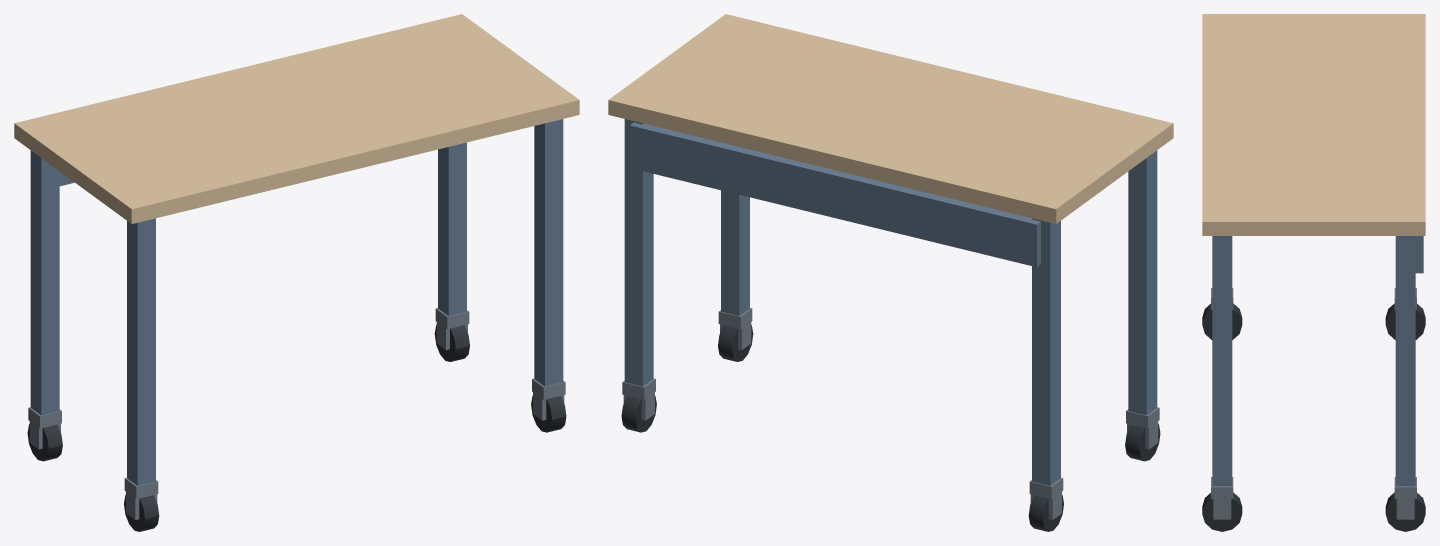
3 views of the same model, side by side, from view 1: azimuth 30°, elevation 25°; view 2: azimuth 150°, elevation 25°; view 3: azimuth 270°, elevation 25° (orthographic). The views are drawn at different scales.
Visible parts, largest first — view 1: vanity-top, vanity-leg-right-front, vanity-leg-left-front, vanity-leg-left-back, vanity-leg-right-back, vanity-caster-wheel-left-back, vanity-caster-wheel-right-front, vanity-caster-wheel-left-front, vanity-caster-wheel-right-back; view 2: vanity-top, vanity-back-brace, vanity-leg-left-front, vanity-leg-left-back, vanity-leg-right-back, vanity-leg-right-front, vanity-caster-wheel-left-front, vanity-caster-wheel-right-back, vanity-caster-wheel-left-back, vanity-caster-wheel-right-front; view 3: vanity-top, vanity-leg-right-back, vanity-leg-right-front, vanity-caster-wheel-right-back, vanity-caster-wheel-right-front, vanity-caster-wheel-left-back, vanity-caster-wheel-left-front, vanity-caster-fork-right-back-b, vanity-caster-fork-right-front-b, vanity-back-brace, vanity-caster-bridge-right-front, vanity-caster-bridge-right-back.
Boxes of the visible parts, <box> form: vanity-top: <box>14,14,579,223</box>; vanity-leg-right-front: <box>534,119,563,386</box>; vanity-leg-left-front: <box>127,218,155,485</box>; vanity-leg-left-back: <box>30,150,59,415</box>; vanity-leg-right-back: <box>438,142,466,315</box>; vanity-caster-wheel-left-back: <box>27,424,62,461</box>; vanity-caster-wheel-right-front: <box>531,396,566,432</box>; vanity-caster-wheel-left-front: <box>124,495,159,531</box>; vanity-caster-wheel-right-back: <box>434,325,469,361</box>; vanity-top: <box>608,14,1173,223</box>; vanity-back-brace: <box>629,122,1040,267</box>; vanity-leg-left-front: <box>1128,150,1157,415</box>; vanity-leg-left-back: <box>1032,218,1060,485</box>; vanity-leg-right-back: <box>624,119,653,386</box>; vanity-leg-right-front: <box>721,190,749,315</box>; vanity-caster-wheel-left-front: <box>1125,424,1160,461</box>; vanity-caster-wheel-right-back: <box>621,396,656,432</box>; vanity-caster-wheel-left-back: <box>1028,495,1063,531</box>; vanity-caster-wheel-right-front: <box>718,325,753,361</box>; vanity-top: <box>1202,14,1425,235</box>; vanity-leg-right-back: <box>1395,236,1415,486</box>; vanity-leg-right-front: <box>1212,236,1232,486</box>; vanity-caster-wheel-right-back: <box>1385,492,1425,531</box>; vanity-caster-wheel-right-front: <box>1202,492,1242,531</box>; vanity-caster-wheel-left-back: <box>1385,303,1425,339</box>; vanity-caster-wheel-left-front: <box>1202,303,1242,339</box>; vanity-caster-fork-right-back-b: <box>1396,493,1414,519</box>; vanity-caster-fork-right-front-b: <box>1213,493,1231,519</box>; vanity-back-brace: <box>1415,236,1423,273</box>; vanity-caster-bridge-right-front: <box>1211,477,1233,498</box>; vanity-caster-bridge-right-back: <box>1394,477,1416,498</box>.
Bounding box in the file's own units: 1.1 × 0.78 × 0.5.
